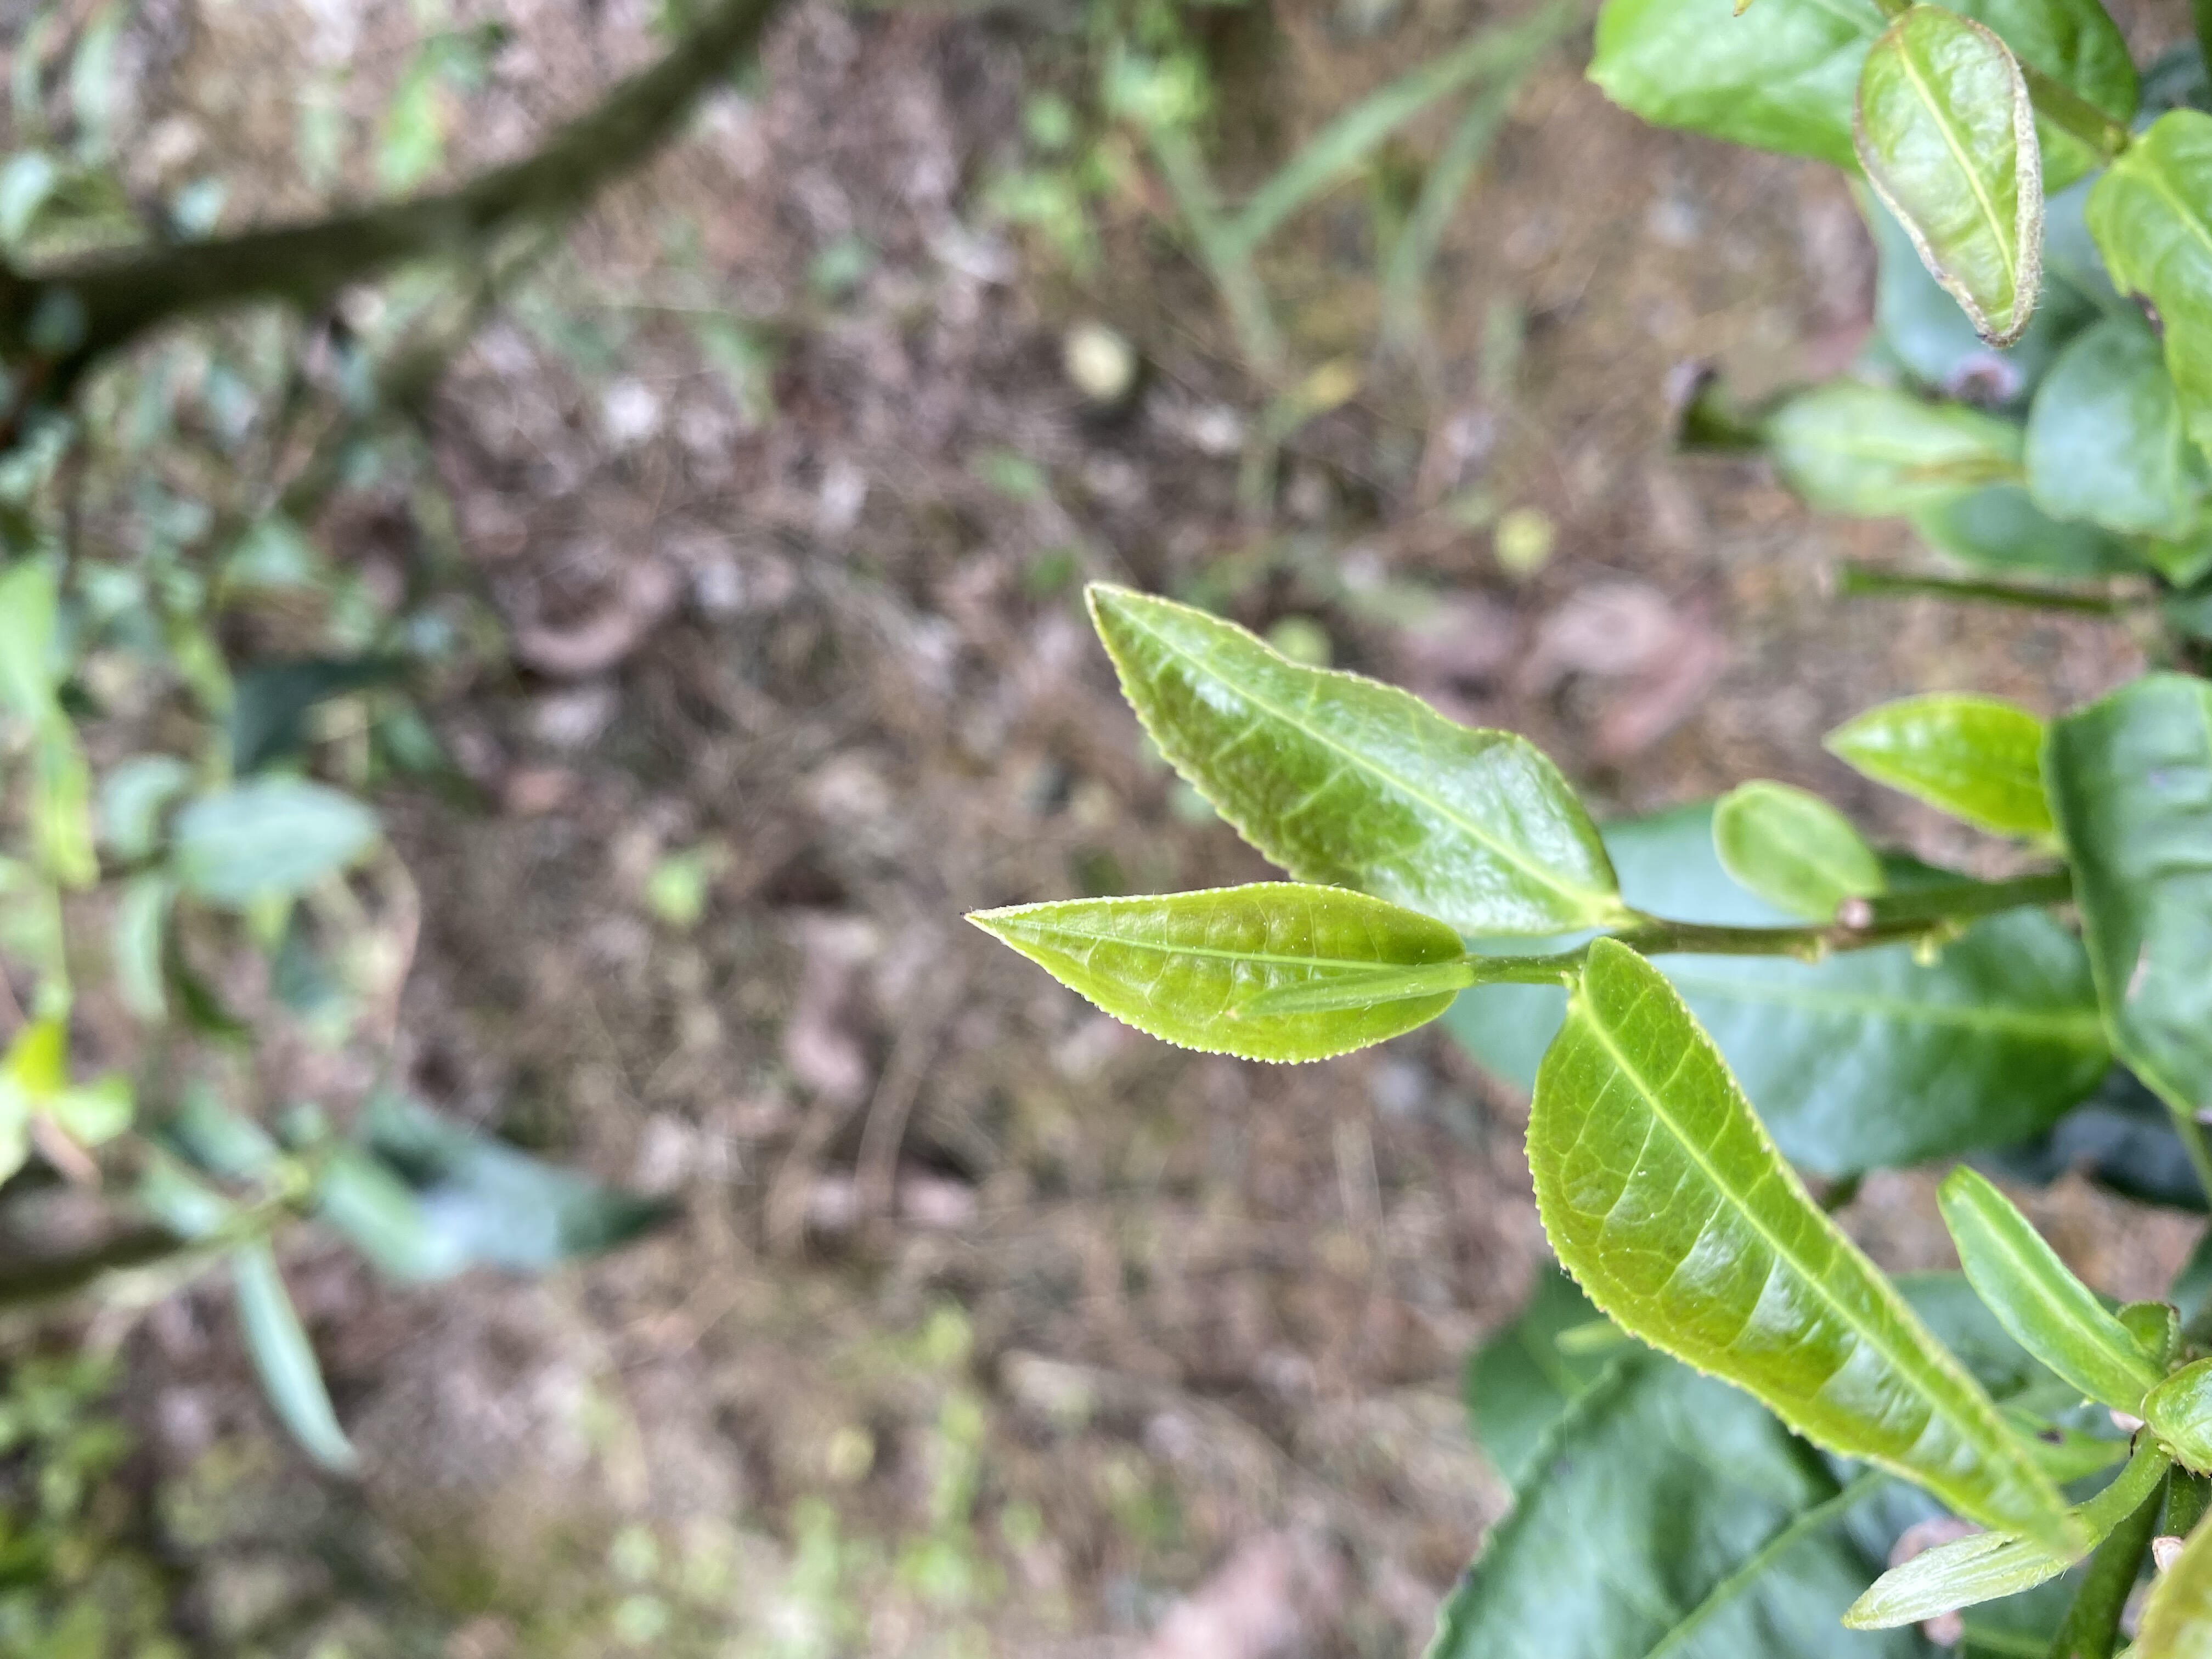healthy: (1522, 938, 2087, 1561), (1083, 582, 1620, 941), (963, 880, 1470, 1068)
tanju_low: (1851, 2, 2048, 343)
